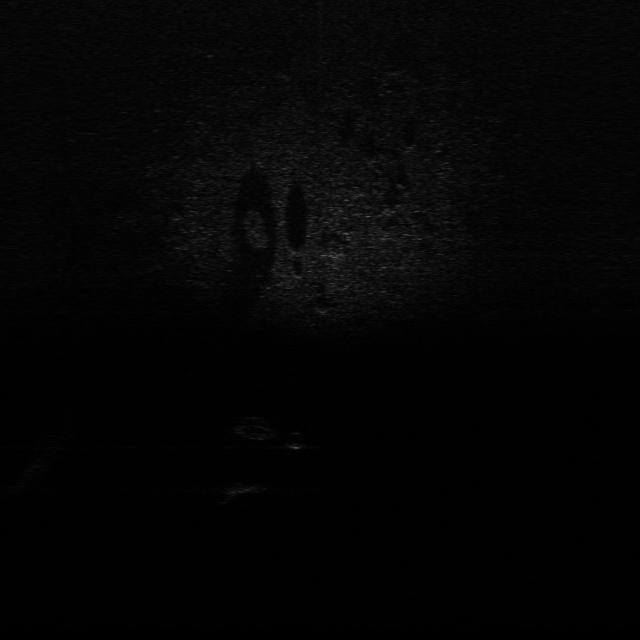ball: (277, 432, 314, 452)
square cage: (222, 480, 269, 499)
tyre: (230, 415, 280, 441)
